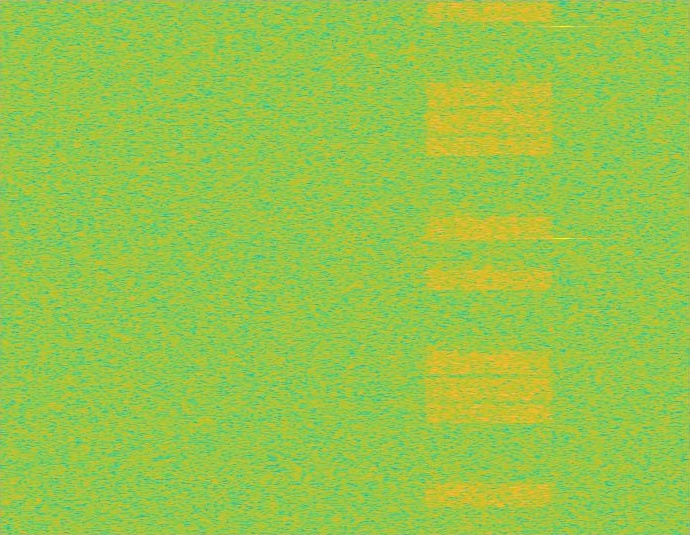LTE: (420, 0, 558, 534)
Radar: (556, 0, 570, 534)
